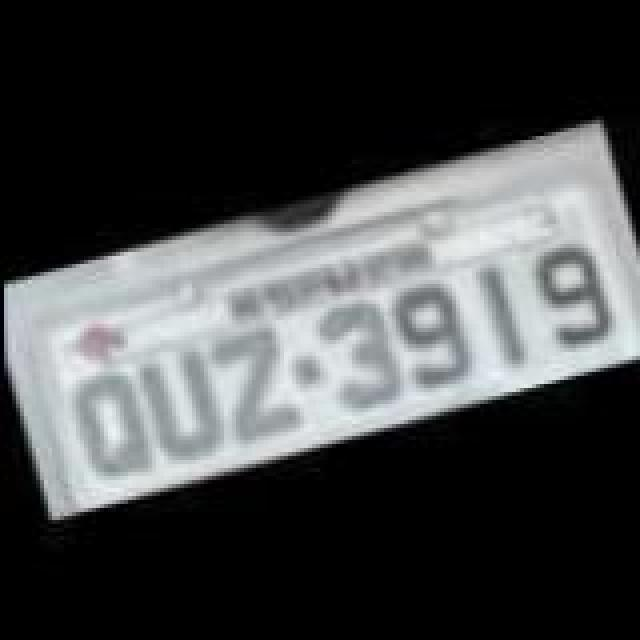1: (464, 250, 536, 378)
3: (304, 294, 408, 422)
9: (522, 232, 622, 360), (380, 270, 476, 394)
Q: (58, 360, 154, 480)
U: (132, 340, 232, 468)
Z: (200, 320, 308, 440)
